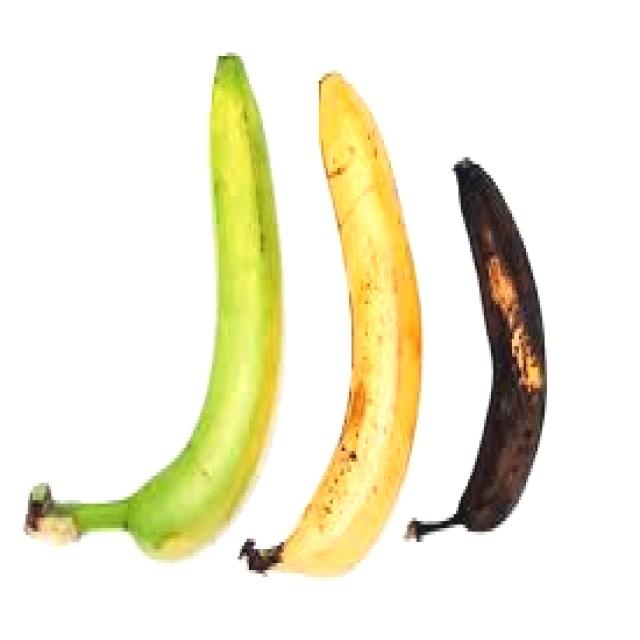agrume: (80, 46, 288, 561), (279, 63, 425, 589)
